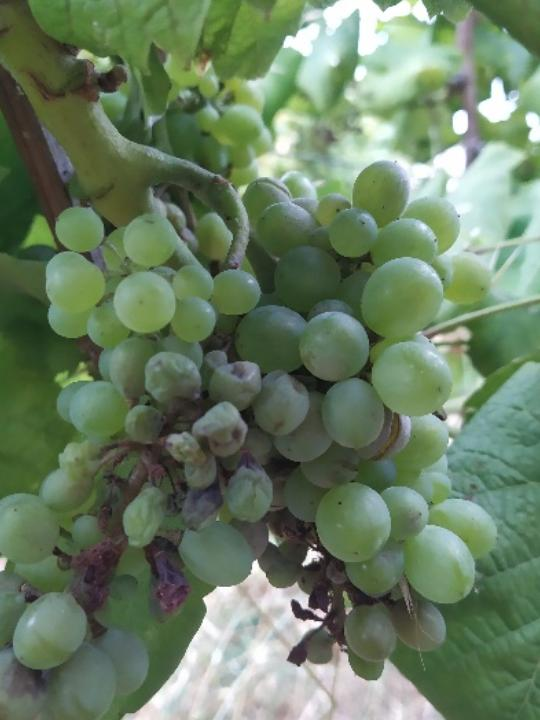grape: (0, 155, 504, 720)
